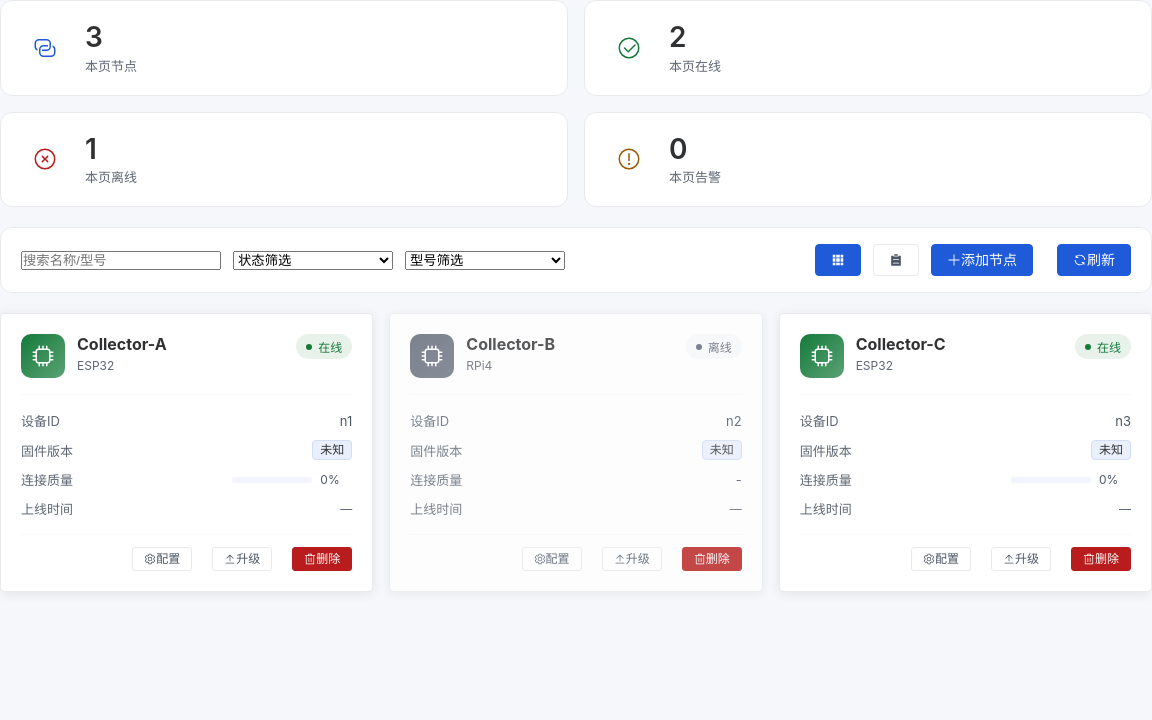
Test case: NodeList.vue › A1: 「添加节点」按钮打开本页对话框, 且不再 push ?action=add
Click the button "添加节点": (982, 260) [931, 244, 1033, 276]
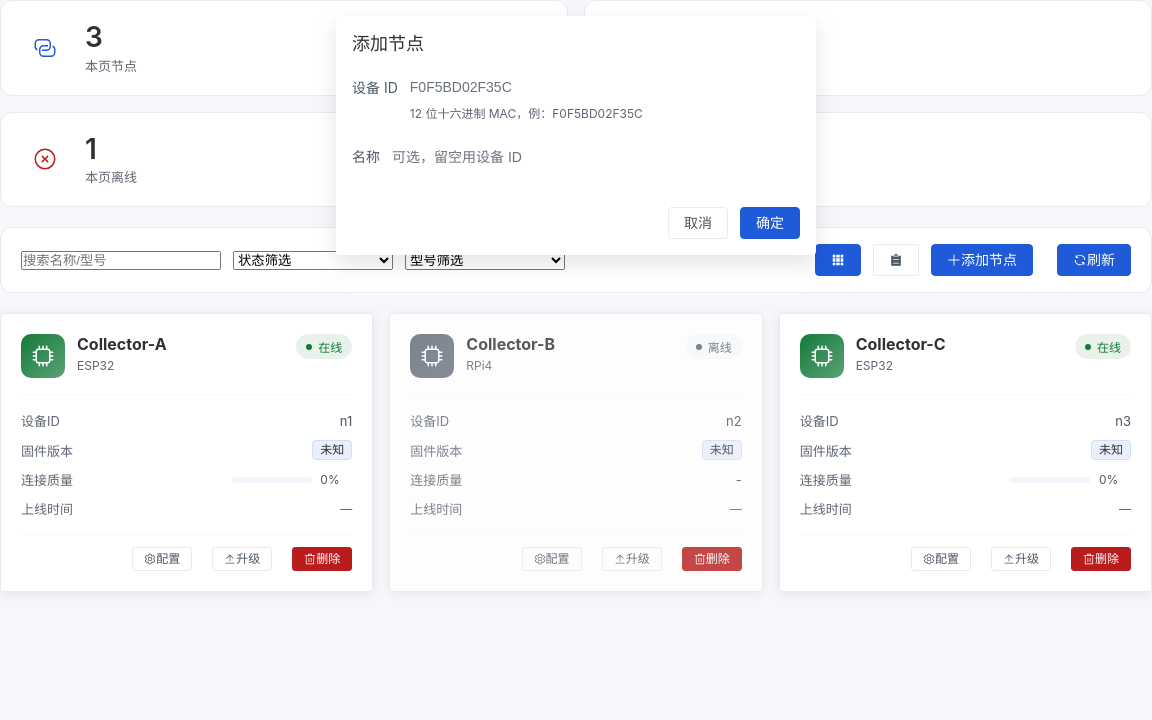
Now the dialog is shown, box [336, 16, 816, 255]
Now the dialog shows "添加节点", box [352, 33, 424, 54]
